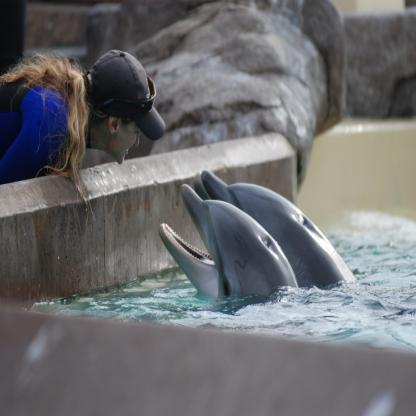Helmet: (81, 49, 155, 155)
